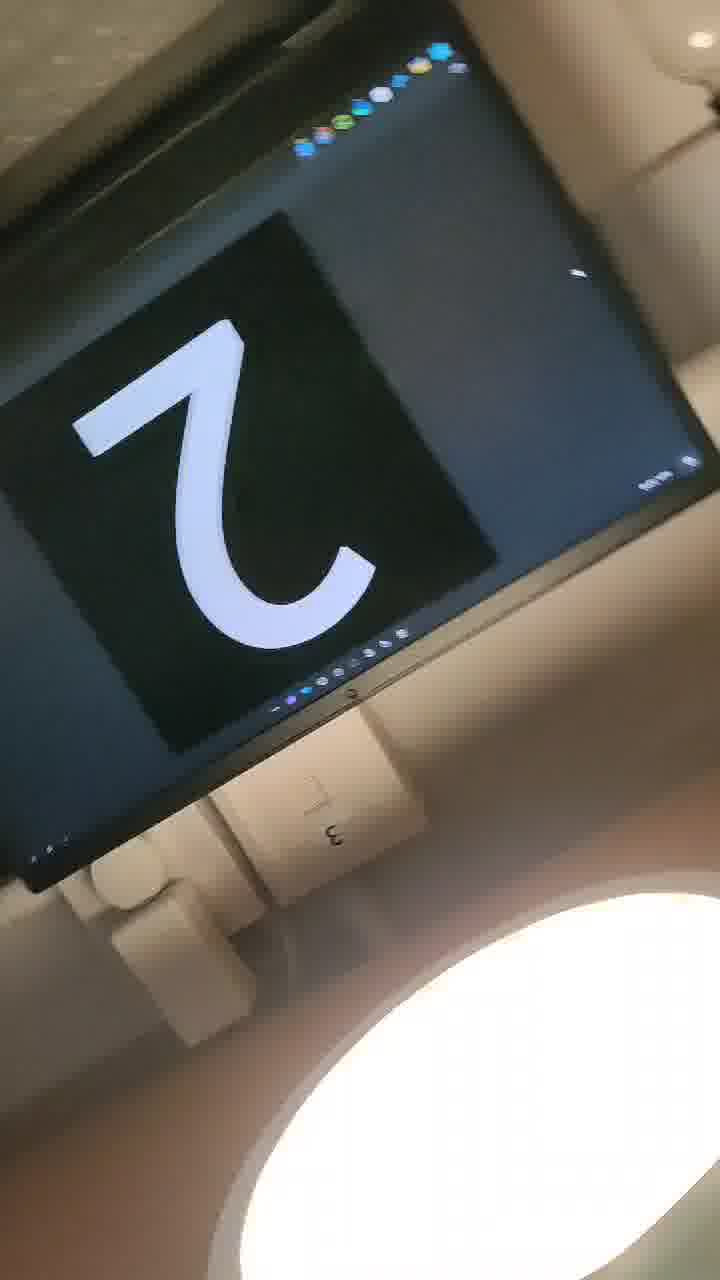two: (68, 268, 384, 660)
